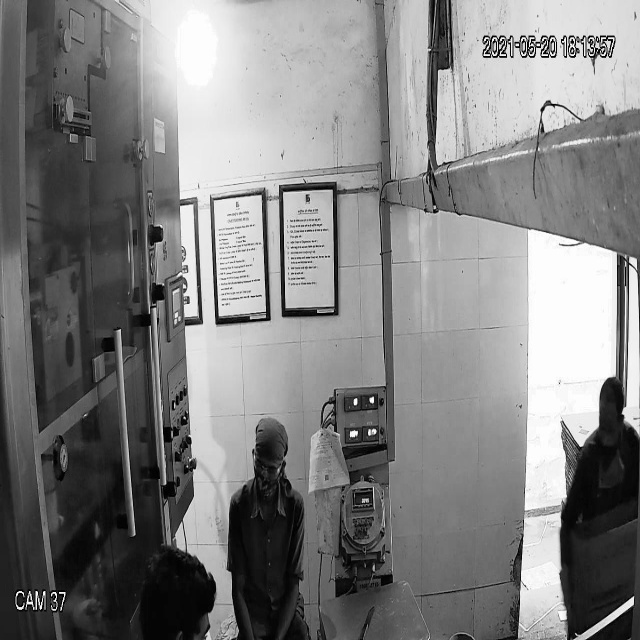Gafas: (249, 445, 286, 484)
